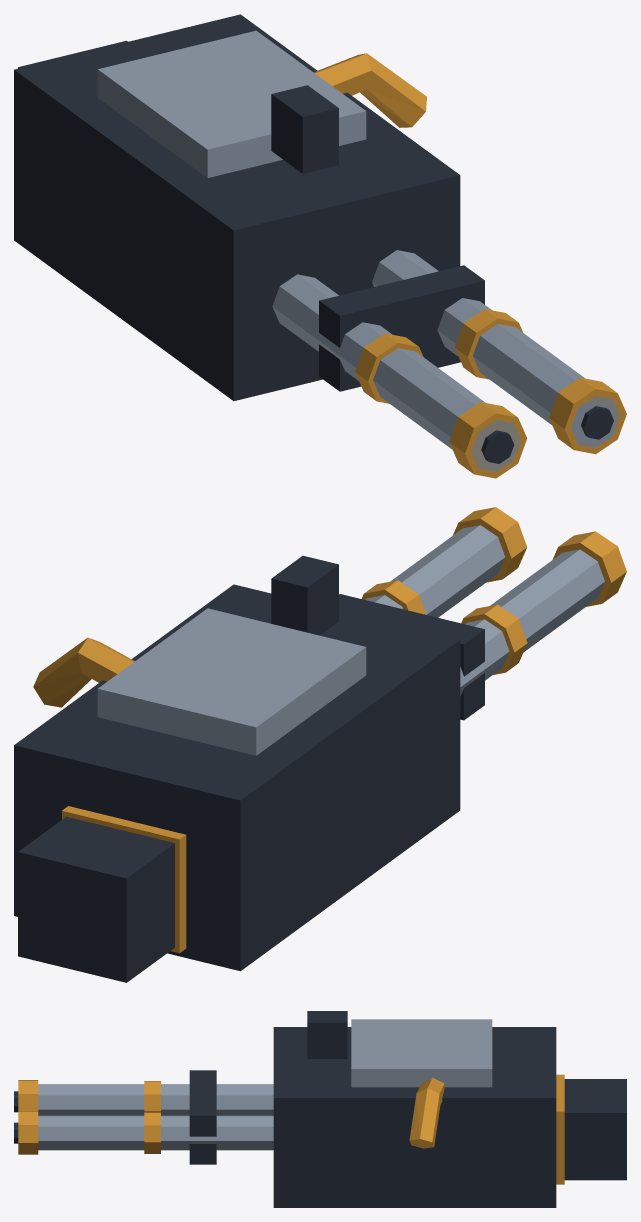
File: GunDefault.obj
The picture shows the model from 3 angles, top to bottom: view 1: azimuth 30°, elevation 25°; view 2: azimuth 150°, elevation 25°; view 3: azimuth 270°, elevation 25°; orthographic projection. The views are drawn at different scales.
Parts seen in each view (by area): view 1: GunDefault; view 2: GunDefault; view 3: GunDefault.
Boxes of the visible parts, box(x1,y1,x2,y2) form: GunDefault: box(14, 14, 626, 478); GunDefault: box(14, 507, 626, 982); GunDefault: box(14, 1011, 626, 1207).
Size of the model in its own units: 0.6775 by 0.51 by 1.82.
